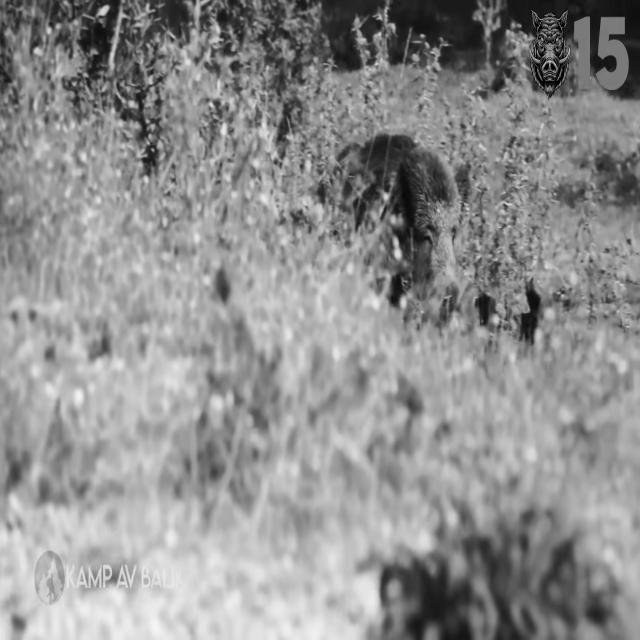boar: (337, 133, 469, 304)
